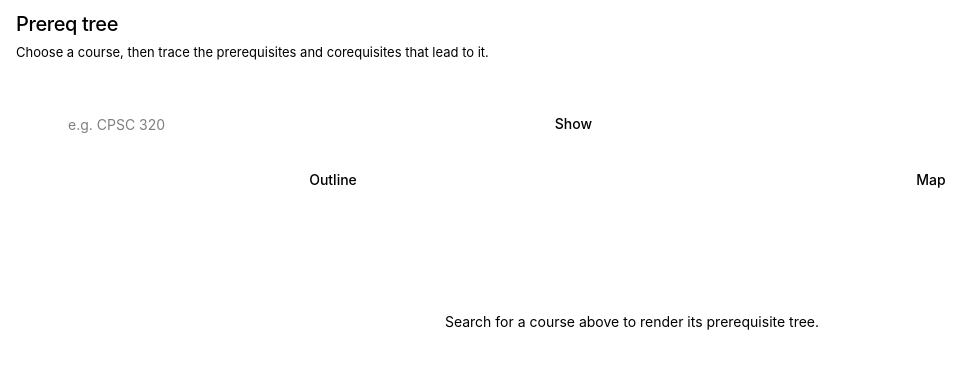
Test: PrereqTreePane › picking a suggestion fills the input and renders that course's tree
This screenshot has width=962, height=385.
Type "CPSC 2" into the dropdown named "Root course code" at (281, 124), box [32,102,531,146]
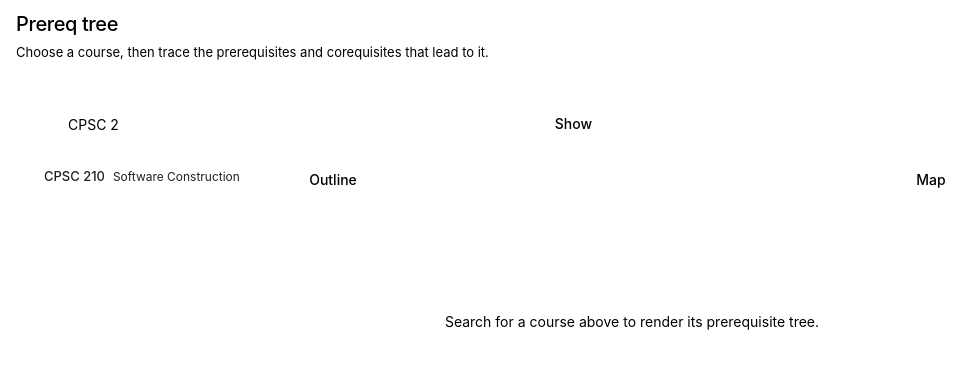
Click the option "CPSC 210 Software Construction" at (74, 177), box [32,154,530,202]
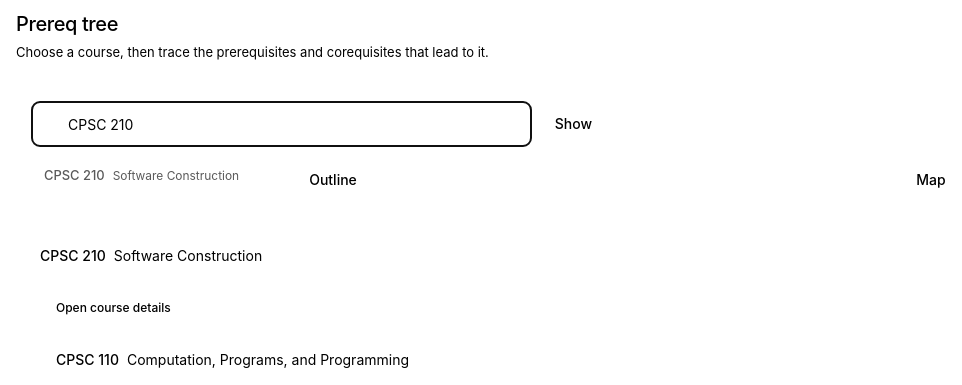
Expected: the dropdown named "Root course code" holds "CPSC 210", [32,102,531,146]
